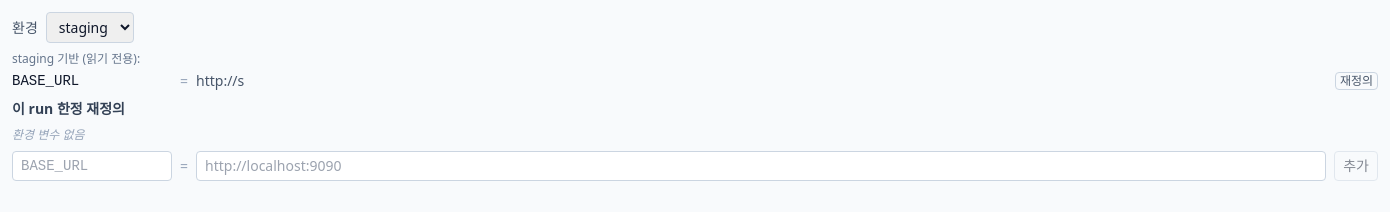
EnvironmentPicker › shows the selected env's vars as a read-only base list with override buttons
Expected: the text "BASE_URL" is shown, [12,73,79,89]
Expected: the text "http://s" is shown, [196,71,244,90]
// clicking "override" seeds an editable override row pre-filled with the base value
Click the button "재정의" at coordinates (1356, 81), box [1335,72,1378,90]
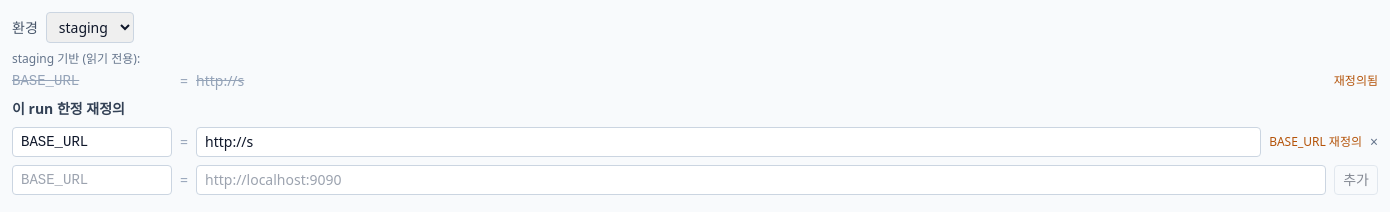
Expected: the field named "환경 변수 키 0" holds "BASE_URL", [12,127,172,157]
Expected: the field named "환경 변수 값 0" holds "http://s", [196,127,1261,157]
